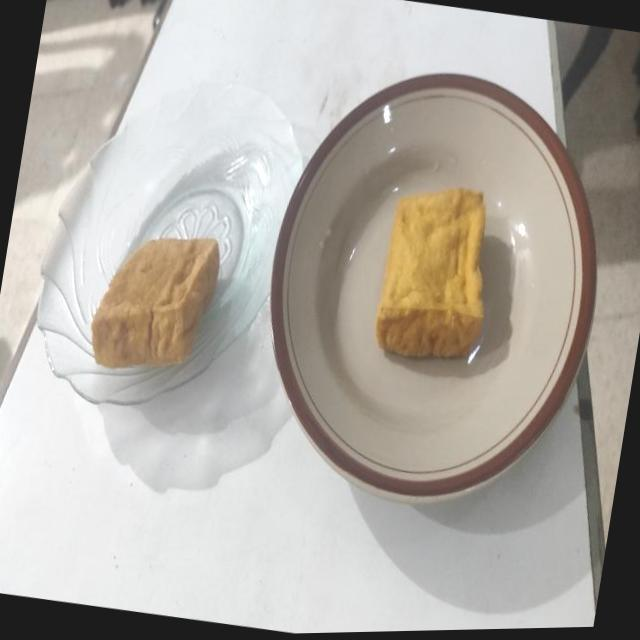tahu_goreng: (376, 188, 485, 357), (92, 239, 220, 368)
